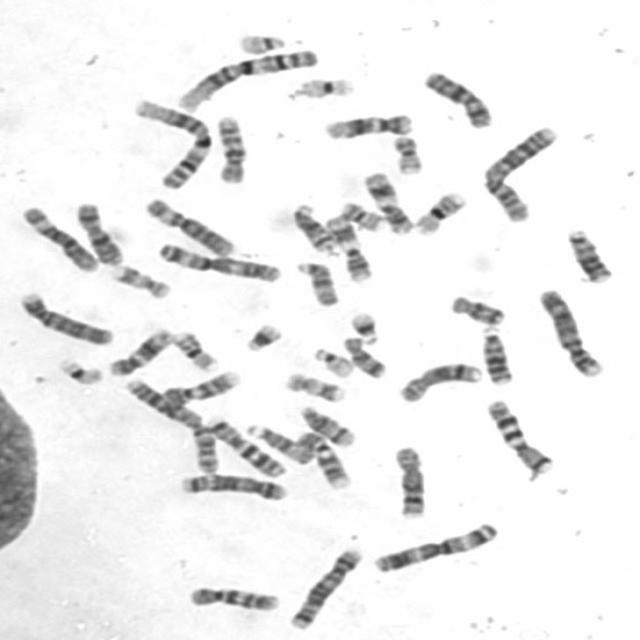A1: (172, 46, 320, 112), (128, 94, 214, 192)
A2: (120, 374, 220, 476), (477, 121, 561, 223)
A3: (368, 518, 500, 574), (154, 239, 282, 283)
B4: (534, 284, 606, 380), (15, 288, 115, 346)
B5: (284, 545, 364, 630), (175, 471, 288, 502)
C10: (211, 111, 250, 186), (185, 582, 282, 612)
C11: (321, 212, 375, 283), (360, 168, 416, 234)
C12: (105, 326, 177, 378), (319, 110, 416, 140)
C6: (139, 193, 237, 258), (16, 199, 101, 273)
C7: (482, 395, 555, 476), (204, 414, 287, 479)
C8: (395, 358, 483, 404), (389, 442, 429, 522)
C9: (159, 366, 244, 408), (294, 428, 352, 489)
D13: (562, 224, 615, 284), (478, 324, 514, 385)
D14: (296, 400, 360, 448), (288, 200, 338, 254)
D15: (242, 420, 317, 465), (292, 258, 342, 308)
E16: (409, 186, 468, 237), (168, 327, 218, 373)
E17: (108, 259, 173, 301), (280, 368, 350, 403)
E18: (338, 334, 389, 379), (445, 292, 507, 326)
F19: (292, 72, 356, 100), (54, 356, 106, 386)
F20: (387, 130, 426, 175), (336, 197, 386, 232)
G21: (344, 306, 382, 346), (240, 319, 284, 353)
G22: (309, 343, 357, 380), (233, 30, 287, 54)
X: (418, 65, 496, 130), (71, 198, 125, 266)
